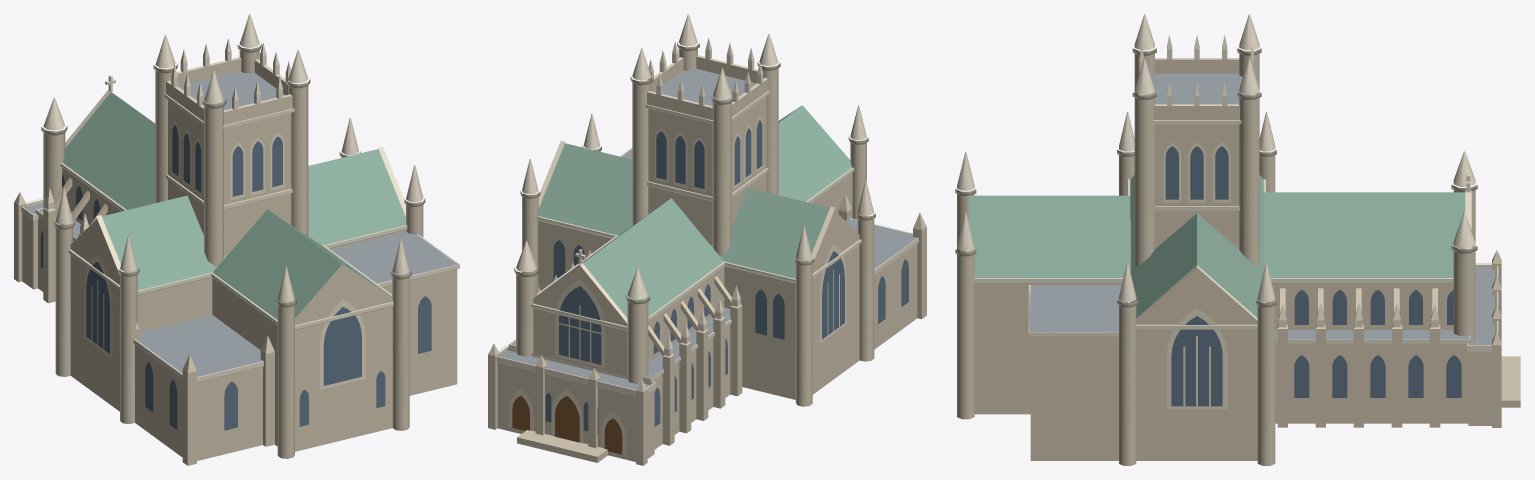
The model's file is cle-trinity-cathedral.glb.
3 views of the same model, side by side, from view 1: azimuth 30°, elevation 25°; view 2: azimuth 150°, elevation 25°; view 3: azimuth 270°, elevation 25° (orthographic). The views are drawn at different scales.
Parts seen in each view (by area): view 1: Trinity Cathedral; view 2: Trinity Cathedral; view 3: Trinity Cathedral.
Part boxes in pixels (left/top/right/bottom): Trinity Cathedral: left=14, top=14, right=459, bottom=465; Trinity Cathedral: left=488, top=14, right=926, bottom=465; Trinity Cathedral: left=955, top=14, right=1520, bottom=465.
Bounding box in the file's own units: 39.62 × 40.2 × 59.41.
